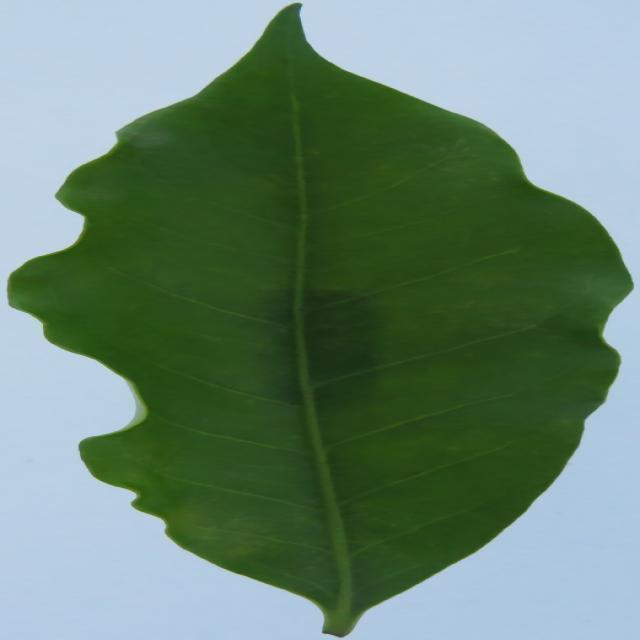DeficienciaNutricional-Calcio: (10, 4, 630, 636)
